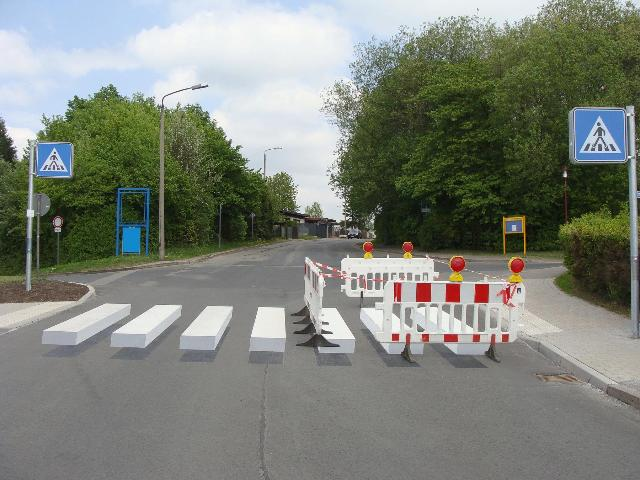crosswalk-sign: (569, 107, 629, 165), (36, 143, 75, 180)
